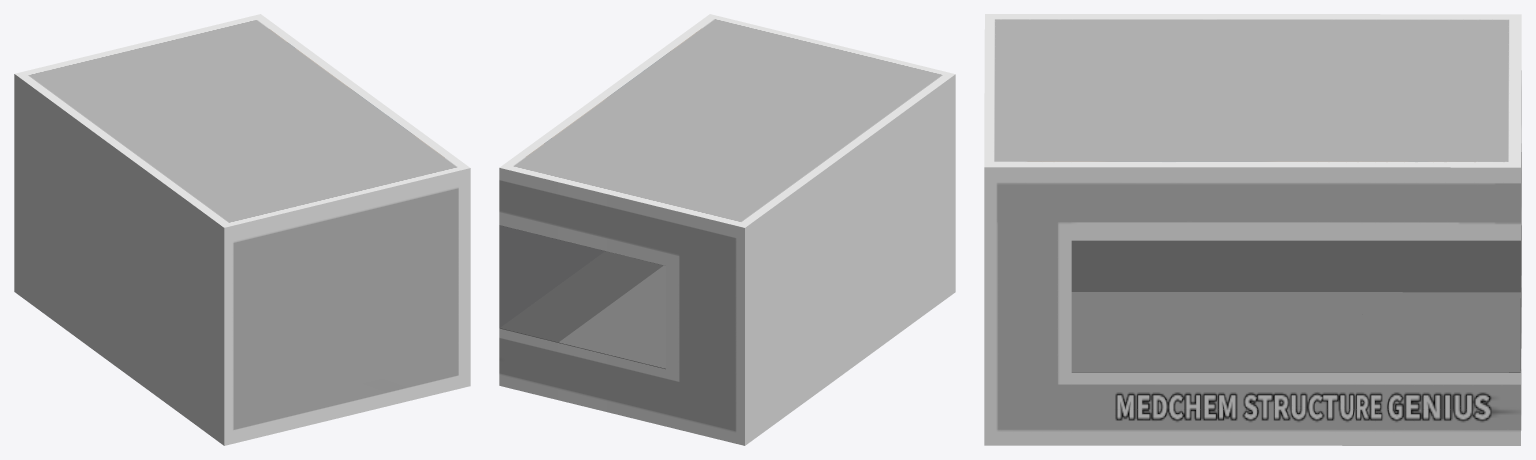
Rendered from HospitalBox.glb.
3 renders of one model, left to right at view 1: azimuth 30°, elevation 25°; view 2: azimuth 150°, elevation 25°; view 3: azimuth 270°, elevation 25°, orthographic. The views are drawn at different scales.
Visible parts, largest first — view 1: Cube.002; view 2: Cube.002; view 3: Cube.002.
Boxes of the visible parts, bbox=[...] form: Cube.002: bbox=[14, 14, 470, 445]; Cube.002: bbox=[499, 14, 955, 445]; Cube.002: bbox=[984, 14, 1521, 445].
Size of the model in its own units: 9.46 by 8 by 14.
3 materials, 1 textured.
